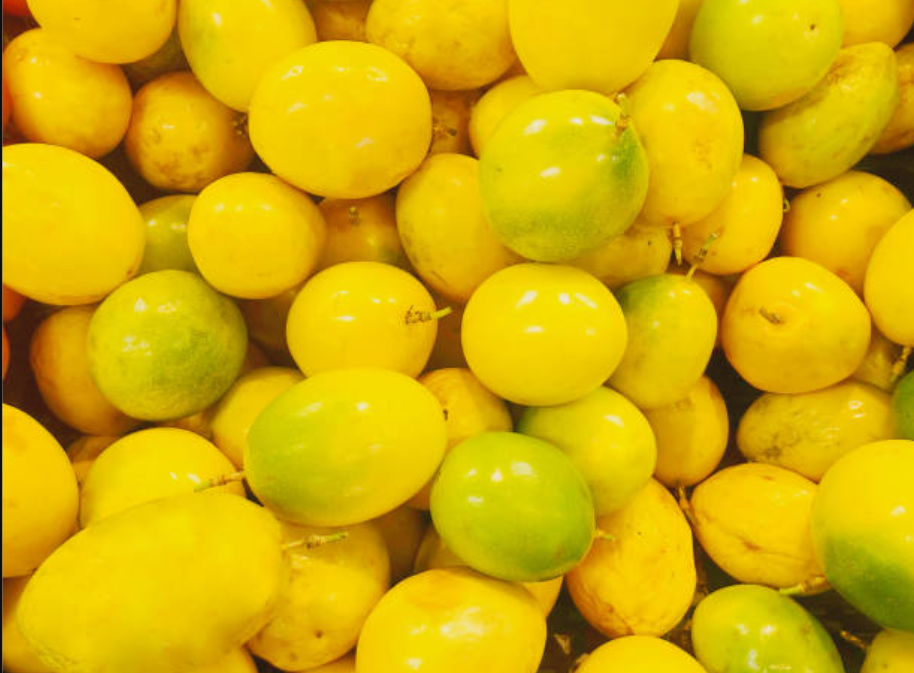maracuya: (234, 36, 440, 204), (242, 362, 452, 522), (481, 88, 652, 271), (427, 429, 604, 589), (456, 255, 634, 412), (86, 267, 252, 428), (280, 259, 444, 396), (725, 252, 880, 394), (181, 170, 332, 301)
